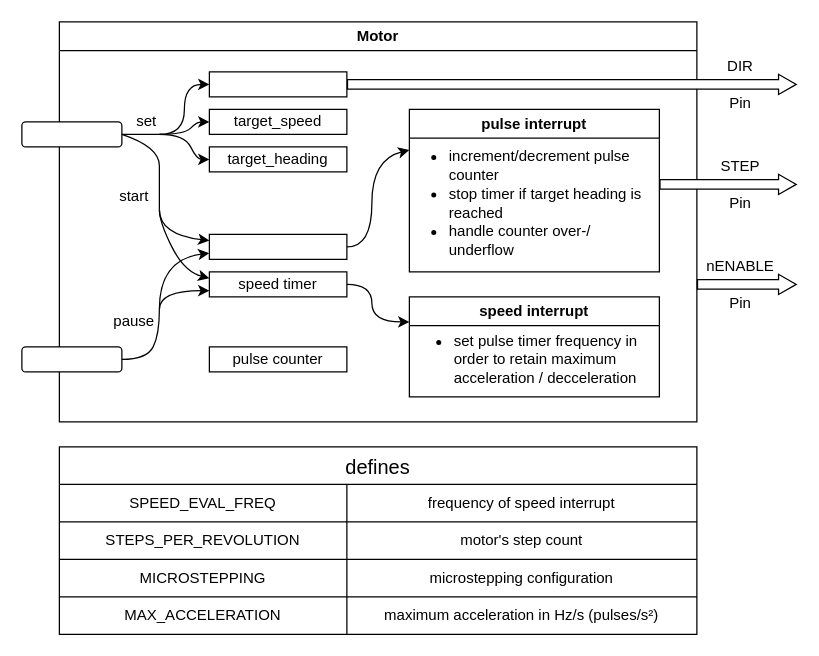
The diagram is 819 pixels wide and 656 high, and some of its shapes have lost their labels. Here are the shapes that lost their labels. From the top down, the box of each, then its label:
(208, 71, 347, 97): rotational_direction
(21, 121, 122, 147): move
(208, 233, 347, 259): pulse timer
(21, 346, 122, 372): stop
